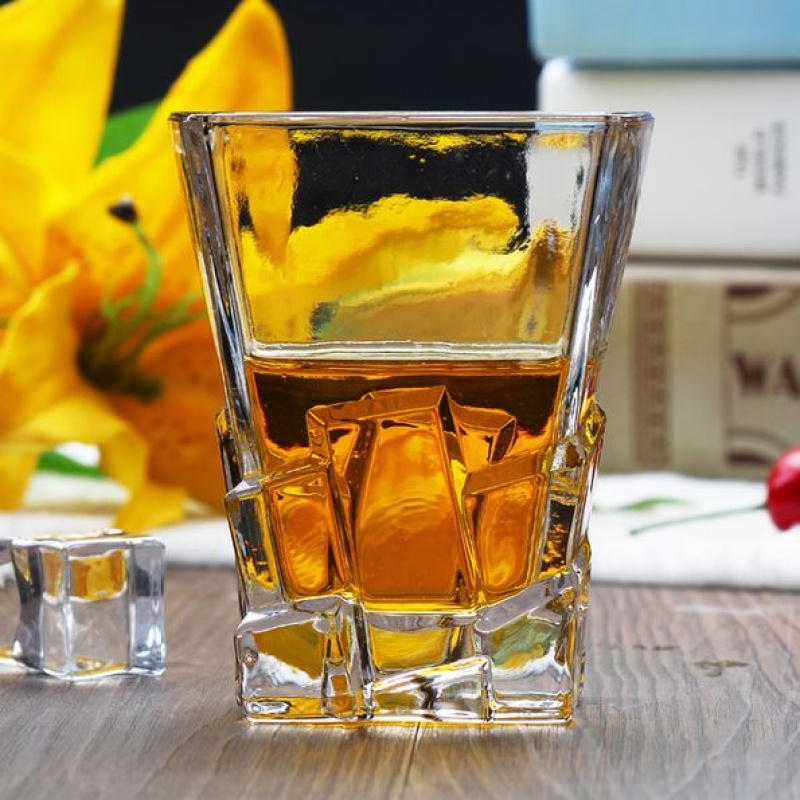whiskey: (187, 104, 664, 747)
